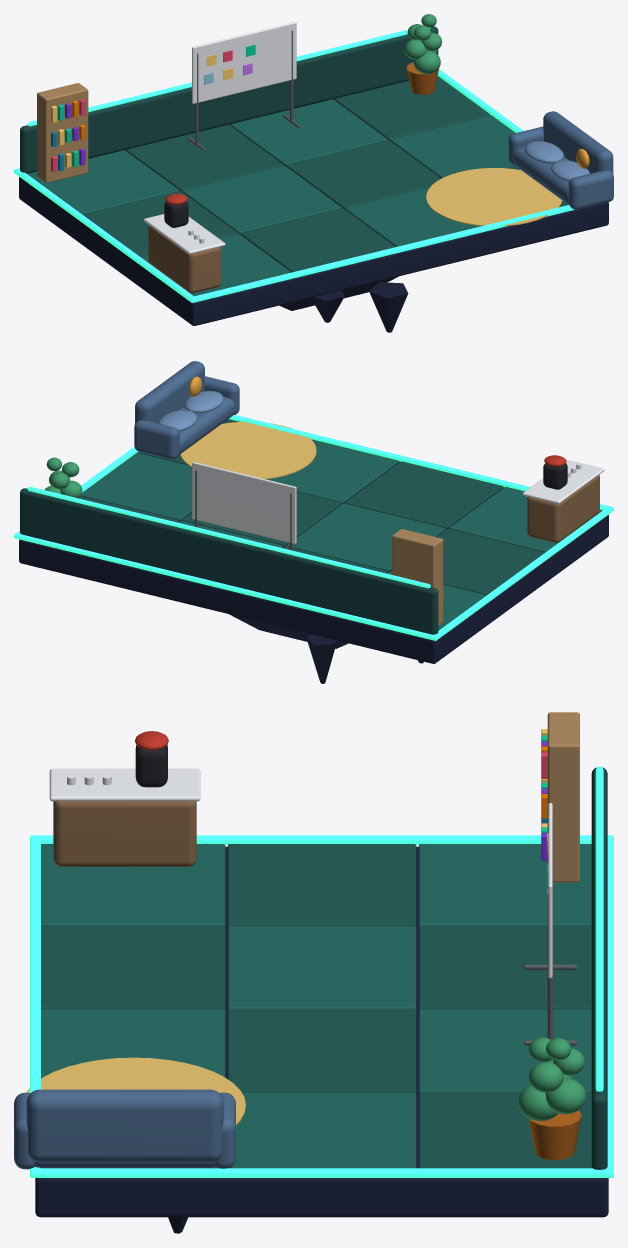
Rendered from island_product.glb.
3 renders of one model, top to bottom at view 1: azimuth 30°, elevation 25°; view 2: azimuth 150°, elevation 25°; view 3: azimuth 270°, elevation 25°, orthographic. The views are drawn at different scales.
Visible parts, largest first — view 1: Slab, WallBack, Tile.004, Tile.007, Rug, Tile.003, Tile.006, Tile.005, Board, Tile.009, Tile.010, Tile (+22 smaller); view 2: WallBack, Slab, Board, Tile.005, Rug, Tile.004, Tile.010, Tile.001, Tile.008, Tile.002, Counter, Shelf (+17 smaller); view 3: Slab, Tile.004, Tile.007, Tile.005, Tile.001, SofaBack, Tile.003, Tile.010, Tile, Tile.002, Tile.006, Tile.008 (+20 smaller).
Boxes of the visible parts, <box> form: Slab: <box>19,99,608,325</box>; WallBack: <box>20,26,438,173</box>; Tile.004: <box>182,165,341,233</box>; Tile.007: <box>286,140,441,208</box>; Rug: <box>426,168,562,226</box>; Tile.003: <box>125,124,283,190</box>; Tile.006: <box>229,99,387,165</box>; Tile.005: <box>240,208,395,272</box>; Board: <box>192,22,296,103</box>; Tile.009: <box>333,76,489,139</box>; Tile.010: <box>390,115,515,178</box>; Tile: <box>27,150,178,214</box>; WallBack: <box>20,488,438,634</box>; Slab: <box>19,462,608,663</box>; Board: <box>192,461,296,543</box>; Tile.005: <box>344,461,503,528</box>; Rug: <box>180,421,316,479</box>; Tile.004: <box>286,503,445,571</box>; Tile.010: <box>81,453,191,520</box>; Tile.001: <box>390,528,545,594</box>; Tile.008: <box>266,439,399,503</box>; Tile.002: <box>449,486,602,552</box>; Counter: <box>527,474,599,543</box>; Shelf: <box>392,529,443,625</box>; Slab: <box>35,846,608,1217</box>; Tile.004: <box>228,926,416,1009</box>; Tile.007: <box>228,1009,416,1092</box>; Tile.005: <box>41,926,225,1009</box>; Tile.001: <box>228,844,416,926</box>; SofaBack: <box>26,1089,223,1162</box>; Tile.003: <box>419,926,591,1009</box>; Tile.010: <box>230,1092,416,1168</box>; Tile: <box>419,844,591,926</box>; Tile.002: <box>41,844,225,926</box>; Tile.006: <box>419,1009,591,1092</box>; Tile.008: <box>41,1009,225,1078</box>.
Size of the model in its own units: 8.94 by 4.52 by 6.7.
